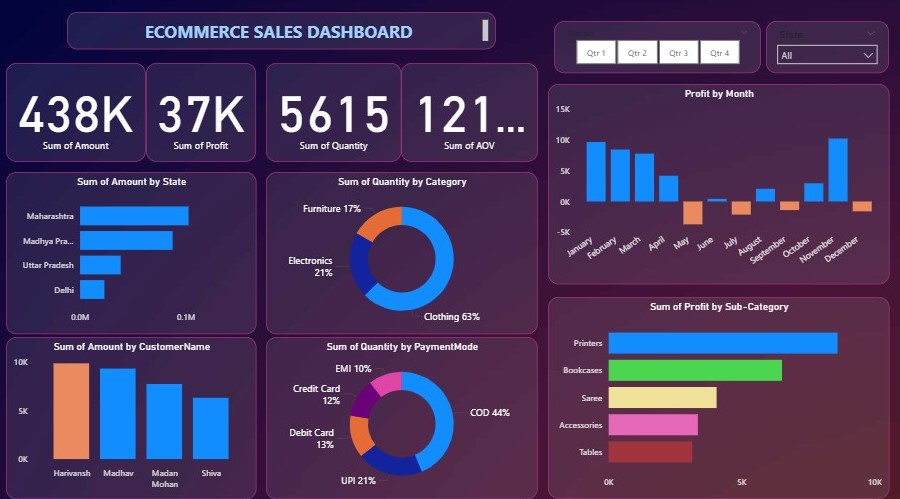

Layout of this report page (visuals, bound fields, positions):
{"tool":"powerbi","page":{"name":"Page 1","canvas":[1280,720],"ordinal":0},"visuals":[{"type":"textbox","box":[100,20,607.5,52.5],"z":0},{"type":"columnChart","title":"Profit by Month","fields":{"Category":["Orders.Order Date.Variation.Date Hierarchy.Month"],"Y":["Details.Profit"]},"box":[782,122,484,284],"z":1000},{"type":"clusteredBarChart","fields":{"Category":["Details.Sub-Category"],"Y":["Details.Profit"]},"box":[782,424,484,286],"z":2000},{"type":"donutChart","fields":{"Category":["Details.Category"],"Y":["Details.Quantity"]},"box":[382.5,246.2,385,230],"z":3000},{"type":"donutChart","fields":{"Y":["Details.Quantity"],"Category":["Details.PaymentMode"]},"box":[382.5,480,385,230],"z":4000},{"type":"card","fields":{"Values":["Details.Amount"]},"box":[14,92,198,140],"z":5000},{"type":"card","fields":{"Values":["Details.Quantity"]},"box":[382,92,192,140],"z":6000},{"type":"card","fields":{"Values":["Details.Profit"]},"box":[212,92,156,140],"z":7000},{"type":"card","fields":{"Values":["Details.AOV"]},"box":[574,92,194,140],"z":8000},{"type":"clusteredBarChart","fields":{"Category":["Orders.State"],"Y":["Details.Amount"]},"box":[13.8,246.2,355,230],"z":9000},{"type":"columnChart","fields":{"Category":["Orders.CustomerName"],"Y":["Details.Amount"]},"box":[13.8,480,355,230],"z":10000},{"type":"slicer","fields":{"Values":["Orders.Order Date.Variation.Date Hierarchy.Quarter"]},"box":[790.2,32.6,293.2,73.6],"z":11000},{"type":"slicer","fields":{"Values":["Orders.State"]},"box":[1091.8,32.6,173.7,73.6],"z":12000}]}

Visuals, with their boxes in screenshot pixels (x1, y1, x2, y2), scaled from the page's 1280x720 canvas onto the 900x499 screenshot:
textbox: (x1=70, y1=14, x2=497, y2=50)
"Profit by Month" columnChart: (x1=550, y1=85, x2=890, y2=281)
clusteredBarChart - Details.Sub-Category x Details.Profit: (x1=550, y1=294, x2=890, y2=492)
donutChart - Details.Category x Details.Quantity: (x1=269, y1=171, x2=540, y2=330)
donutChart - Details.Quantity x Details.PaymentMode: (x1=269, y1=333, x2=540, y2=492)
card - Details.Amount: (x1=10, y1=64, x2=149, y2=161)
card - Details.Quantity: (x1=269, y1=64, x2=404, y2=161)
card - Details.Profit: (x1=149, y1=64, x2=259, y2=161)
card - Details.AOV: (x1=404, y1=64, x2=540, y2=161)
clusteredBarChart - Orders.State x Details.Amount: (x1=10, y1=171, x2=259, y2=330)
columnChart - Orders.CustomerName x Details.Amount: (x1=10, y1=333, x2=259, y2=492)
slicer - Orders.Order Date.Variation.Date Hierarchy.Quarter: (x1=556, y1=23, x2=762, y2=74)
slicer - Orders.State: (x1=768, y1=23, x2=890, y2=74)
